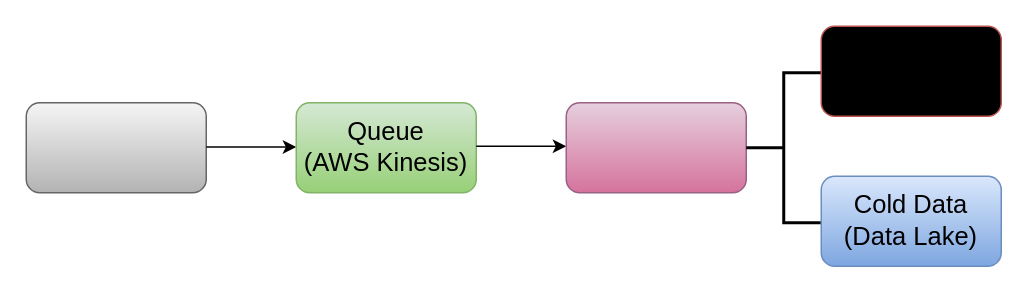
Some shapes in this 1028 by 293 pixel diagram are drawn without their labels. Each missing label, with the centre of its shape:
Anomaly Detection (AWS Lambda): point (655, 147)
Sensors (Turbines): point (115, 147)
